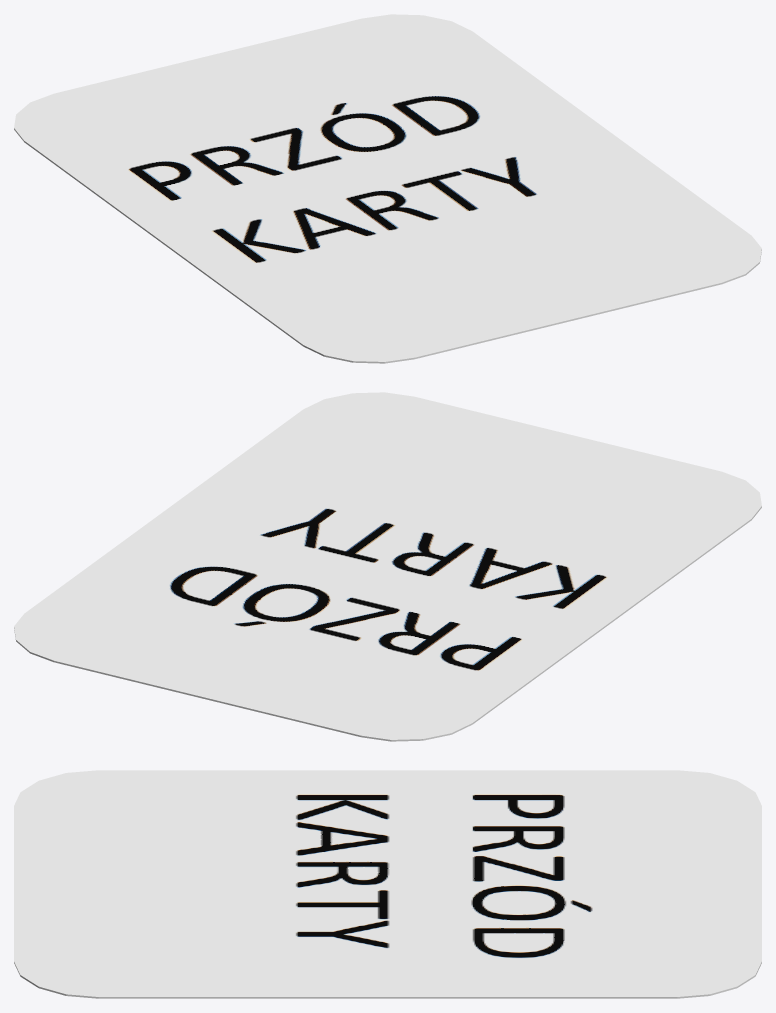
The model's file is card.fbx.
3 views of the same model, one above another, from view 1: azimuth 30°, elevation 25°; view 2: azimuth 150°, elevation 25°; view 3: azimuth 270°, elevation 25° (orthographic). The views are drawn at different scales.
Visible parts, largest first — view 1: Card; view 2: Card; view 3: Card.
Boxes of the visible parts, x1,y1,x2,y2 form: Card: [14, 14, 761, 363]; Card: [14, 392, 761, 741]; Card: [14, 770, 761, 998].
Bounding box in the file's own units: 6.35 × 0.022 × 8.85.
